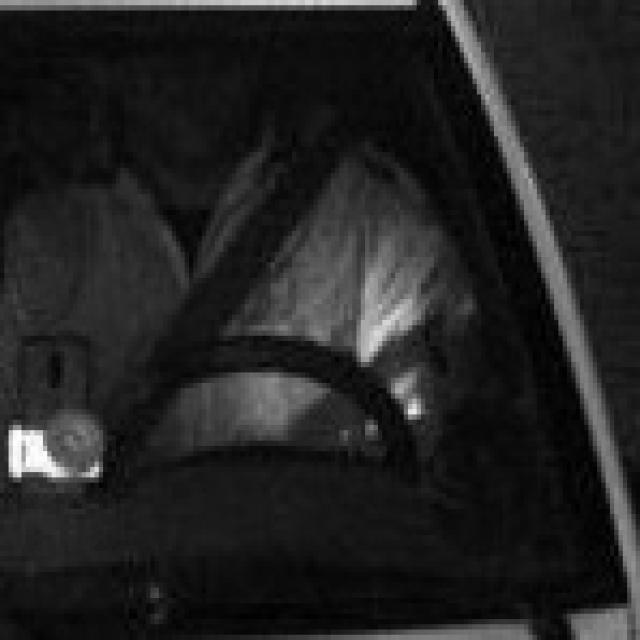Seatbelt: (142, 89, 382, 378)
